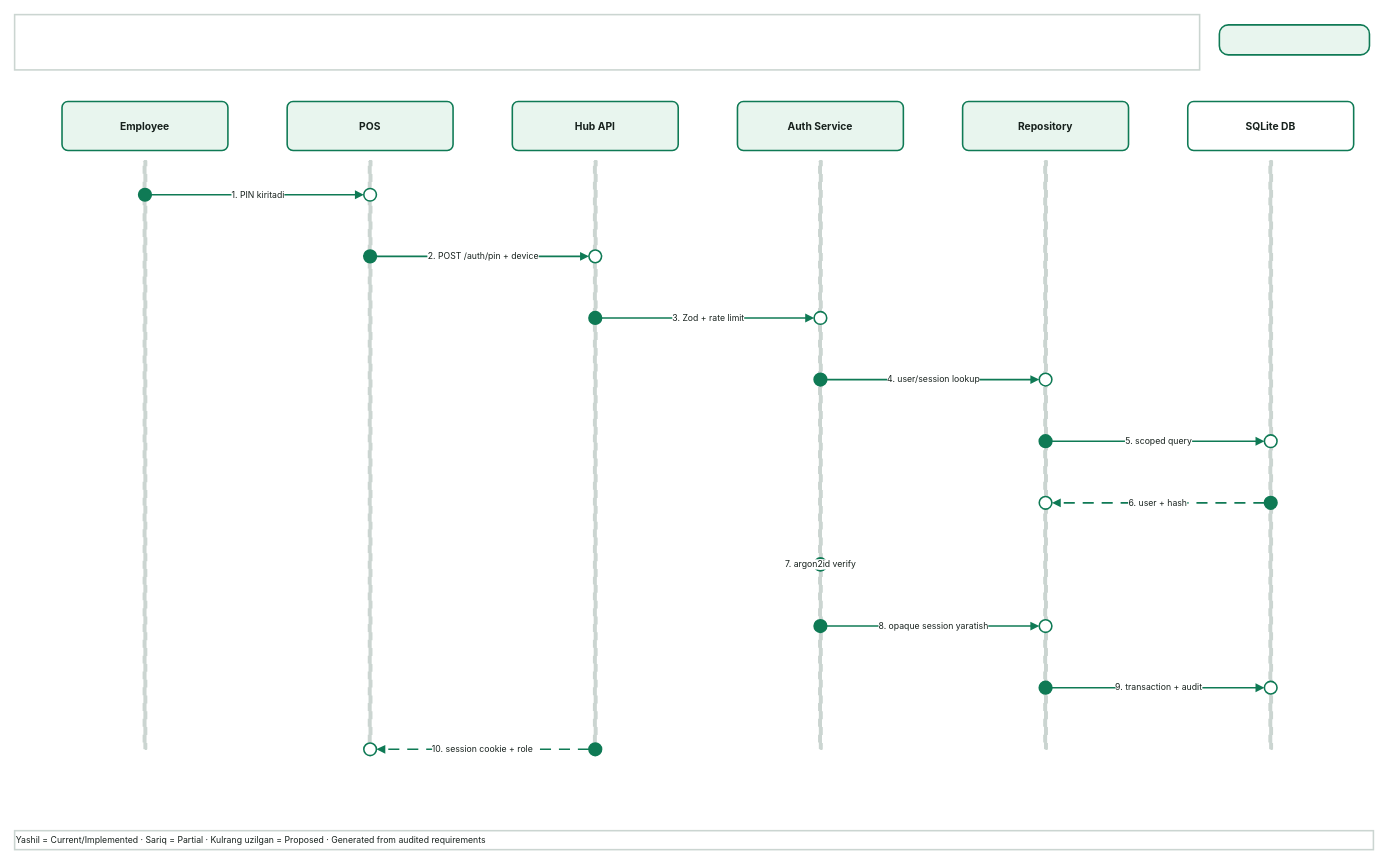
This 1387x863 diagram has some shape labels left out. Here are the shapes that lost their labels. From the top down, the centre of each, then its label:
At pixel 606 41: "D06 · PIN Login Session UML Sequence · osonCafe SDLC".
At pixel 1294 39: "Current".
